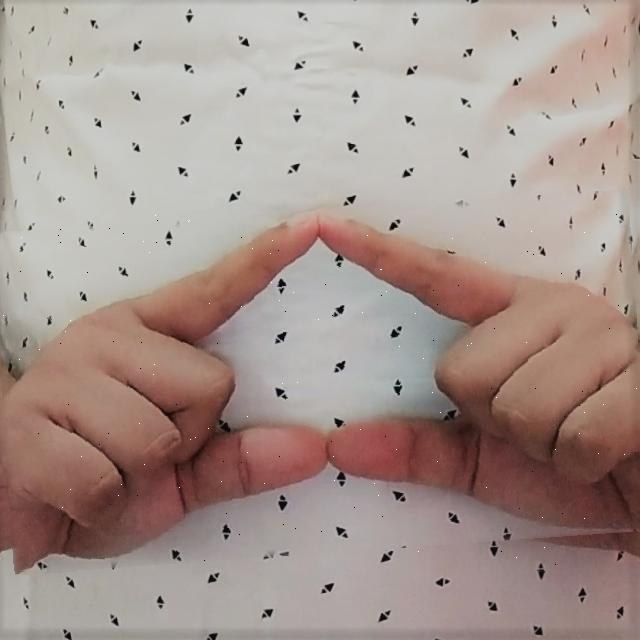A: (2, 211, 639, 571)
